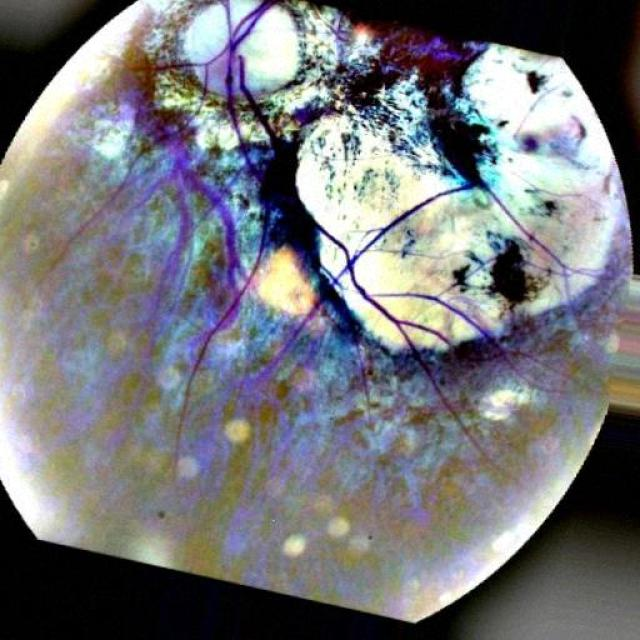Nerves: (291, 181, 500, 415), (129, 90, 269, 405), (150, 0, 286, 184), (480, 180, 588, 278), (75, 175, 135, 235), (168, 199, 192, 269)
Optic Disk: (181, 0, 300, 99)
